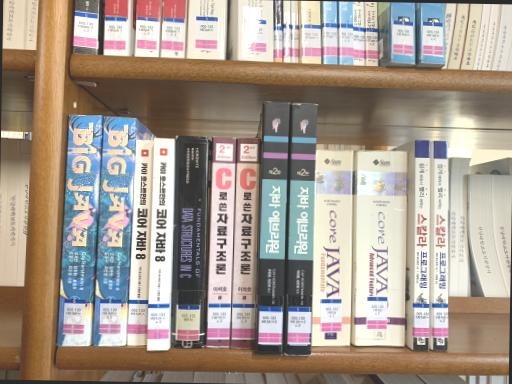book-spine: (355, 151, 407, 347), (57, 115, 100, 346), (94, 117, 135, 346), (256, 102, 289, 355), (284, 104, 317, 355), (312, 150, 353, 346), (172, 136, 208, 348), (206, 137, 236, 348), (231, 138, 260, 348), (147, 139, 175, 350), (127, 140, 154, 346), (414, 140, 430, 350), (433, 141, 448, 350)
